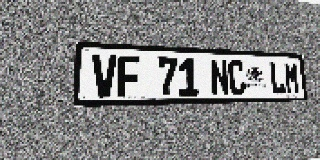1: (178, 58, 198, 96)
7: (157, 57, 178, 96)
C: (228, 60, 246, 95)
F: (117, 55, 140, 97)
L: (269, 61, 286, 94)
M: (284, 62, 300, 94)
N: (210, 59, 229, 96)
V: (92, 54, 117, 98)
